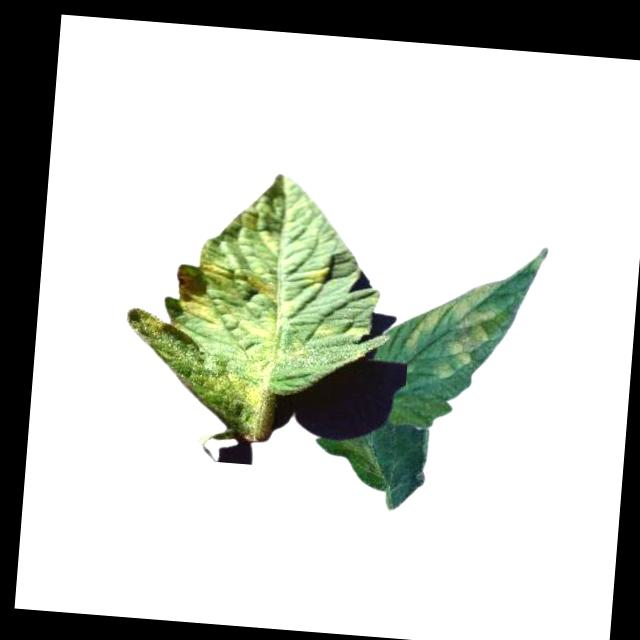Leaf_Mold: (117, 179, 288, 436), (402, 271, 503, 383), (301, 259, 332, 287)
